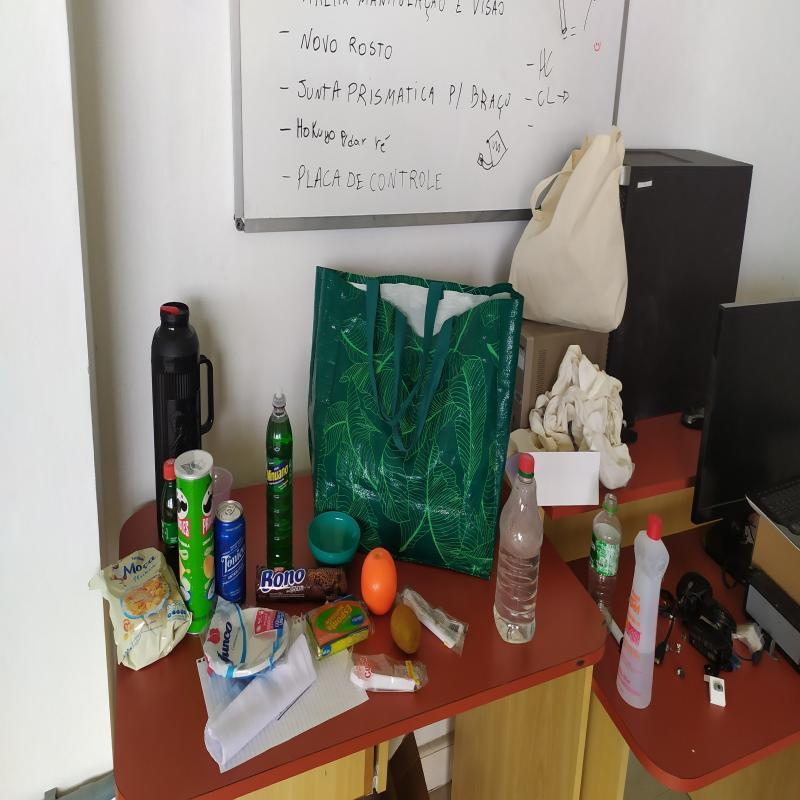Bag: (305, 274, 523, 578), (509, 125, 632, 335)
Bowl: (308, 510, 362, 565)
Cleaner: (265, 393, 294, 572)
Cookies: (255, 564, 346, 604)
CornFlakes: (106, 547, 196, 673)
Guarana: (159, 456, 178, 585)
Kiwi: (391, 605, 420, 651)
Orange: (361, 546, 396, 614)
Plate: (202, 606, 290, 686)
Pringles: (179, 450, 215, 632)
Sponge: (307, 596, 371, 661)
Tonic: (216, 504, 248, 607)
